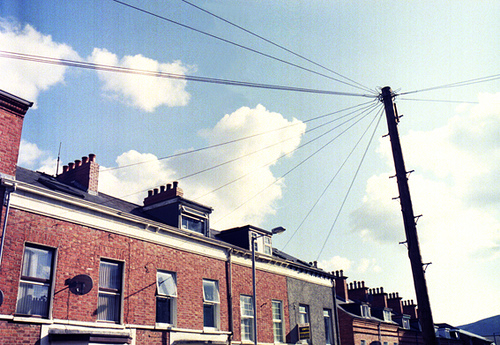pole: (378, 85, 440, 343)
